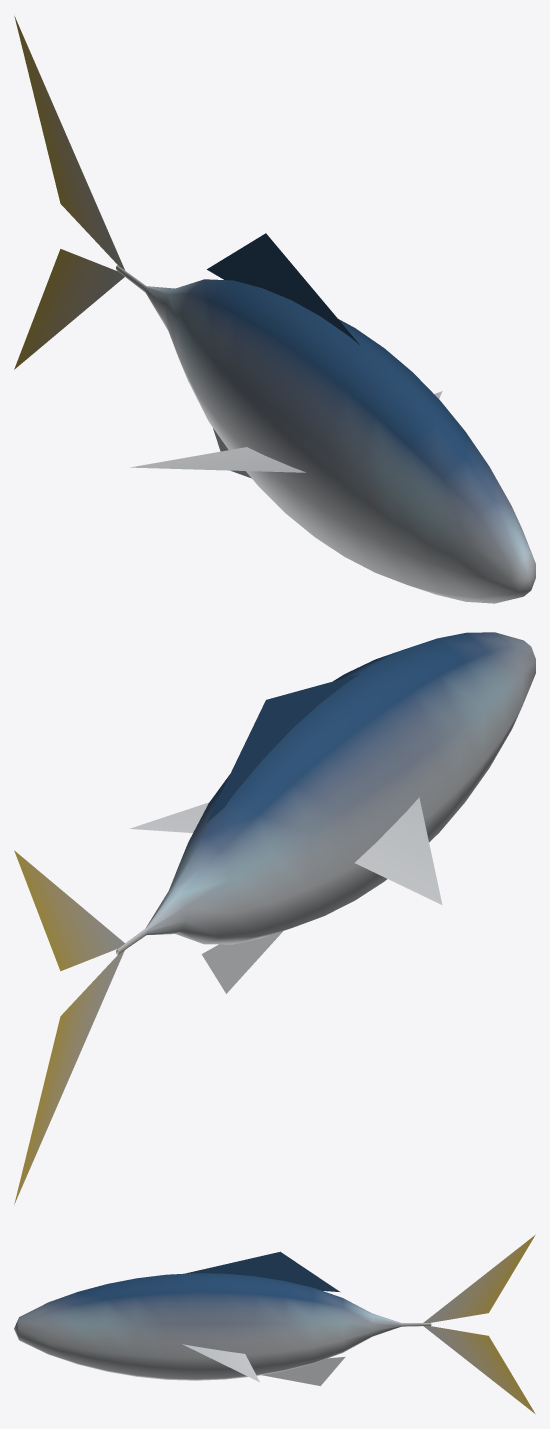
File: Fish_Schooler.glb
3 views of the same model, one above another, from view 1: azimuth 30°, elevation 25°; view 2: azimuth 150°, elevation 25°; view 3: azimuth 270°, elevation 25° (orthographic). The views are drawn at different scales.
Parts seen in each view (by area): view 1: Fish_Schooler; view 2: Fish_Schooler; view 3: Fish_Schooler.
Part boxes in pixels (<box>): Fish_Schooler: <box>14,16,535,603</box>; Fish_Schooler: <box>14,632,535,1204</box>; Fish_Schooler: <box>14,1234,535,1414</box>.
Size of the model in its own units: 0.1314 by 0.1425 by 0.3738.
